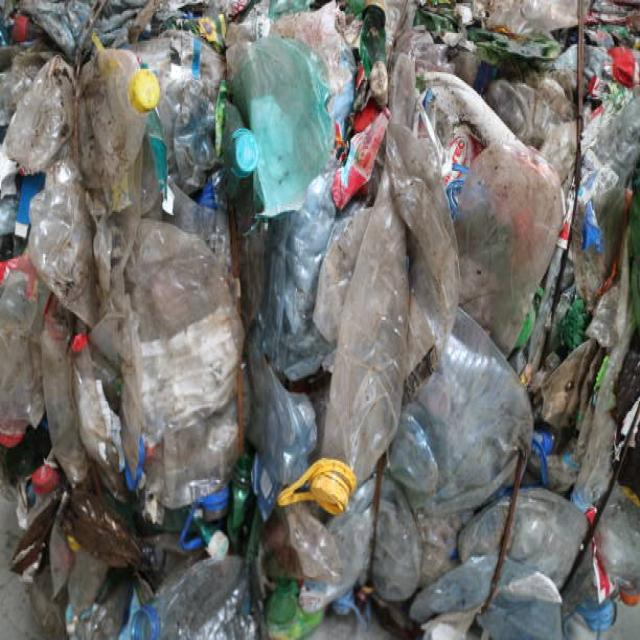plastic: (326, 121, 594, 591), (59, 39, 280, 246)
